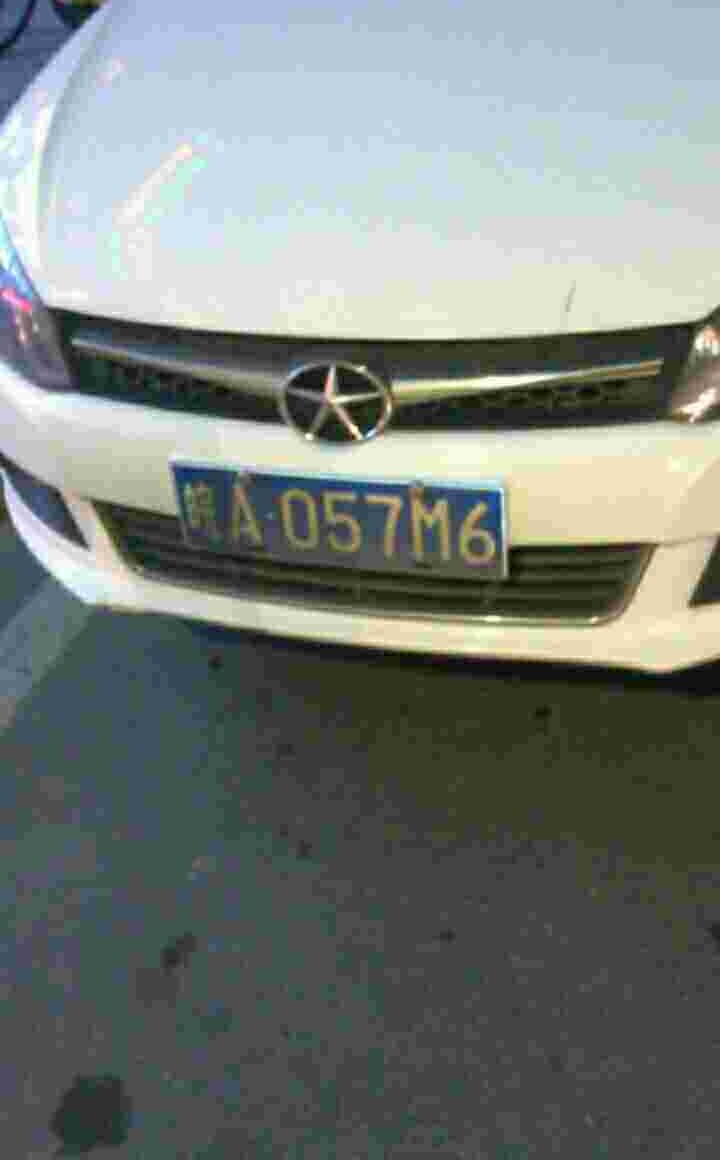license_plate: (173, 471, 504, 569)
